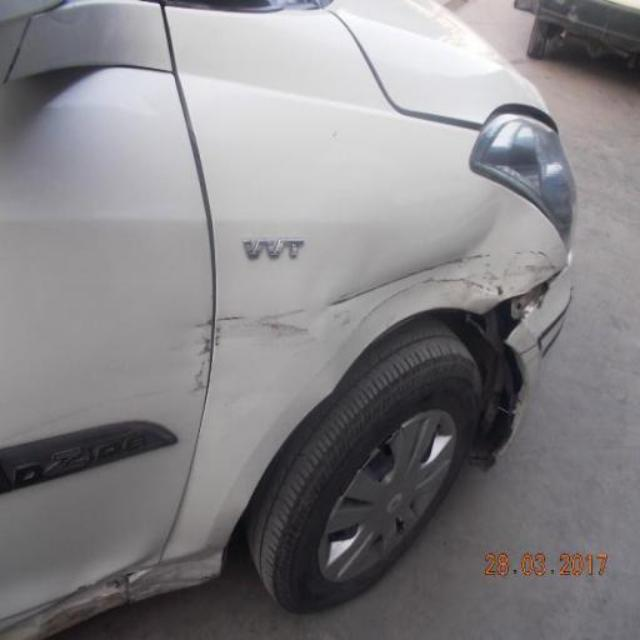dislocated part: (482, 270, 564, 343)
scratch: (186, 245, 556, 395), (0, 548, 224, 640)
